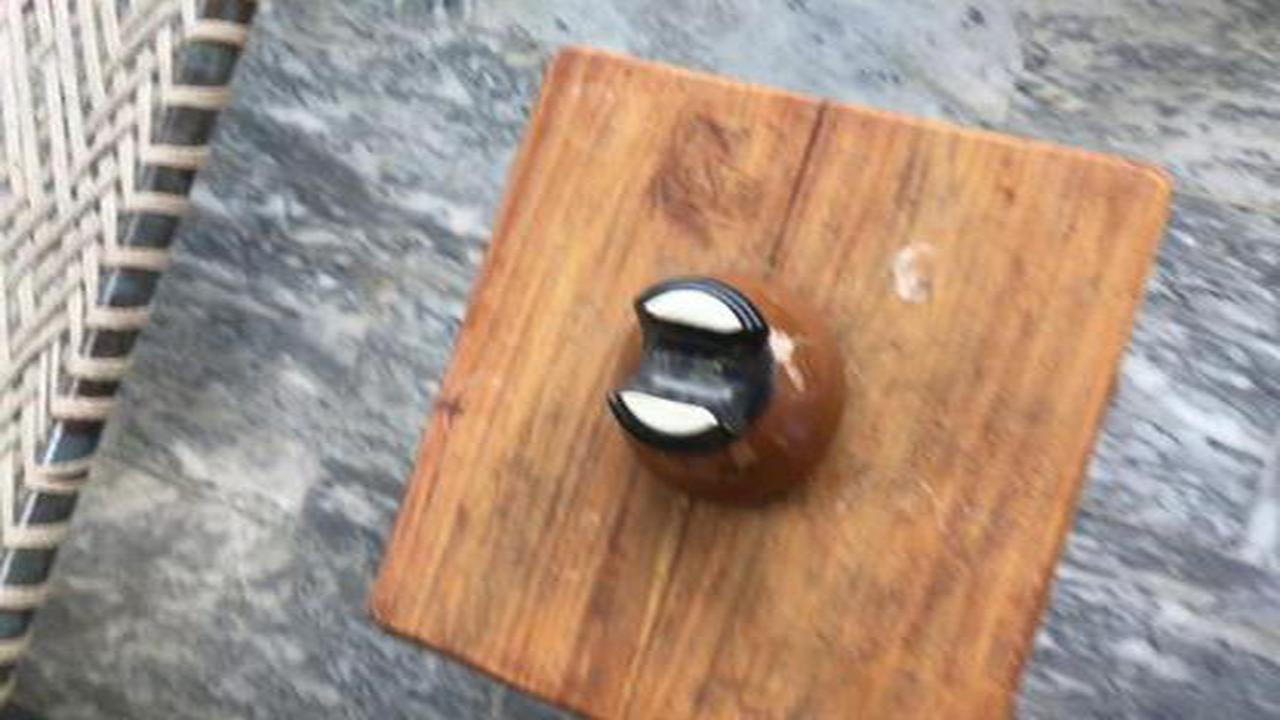insulator_pin: (570, 265, 874, 516)
